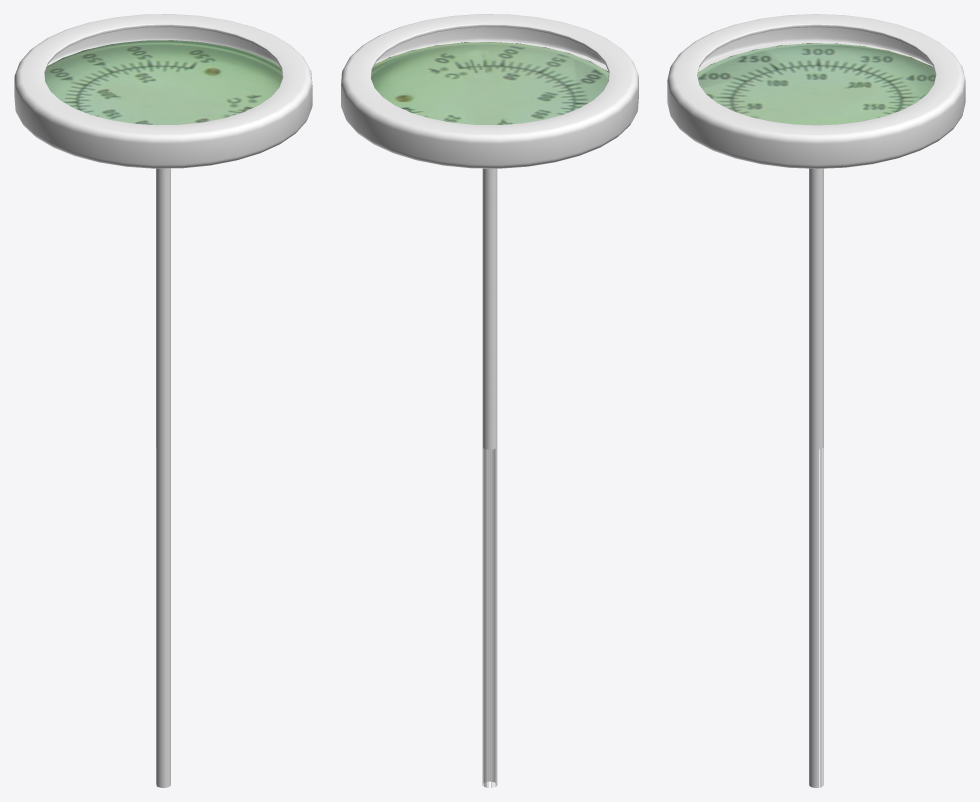
Rendered from thermometer11.glb.
3 renders of one model, left to right at view 1: azimuth 30°, elevation 25°; view 2: azimuth 150°, elevation 25°; view 3: azimuth 270°, elevation 25°, orthographic.
Parts seen in each view (by area): view 1: gauge2; view 2: gauge2; view 3: gauge2.
Boxes of the visible parts, x1,y1,x2,y2 form: gauge2: (14,14,312,787); gauge2: (341,14,638,787); gauge2: (667,14,965,787).
Bounding box in the file's own units: 3.67 × 9.63 × 3.67.
2 materials, 2 textured.
